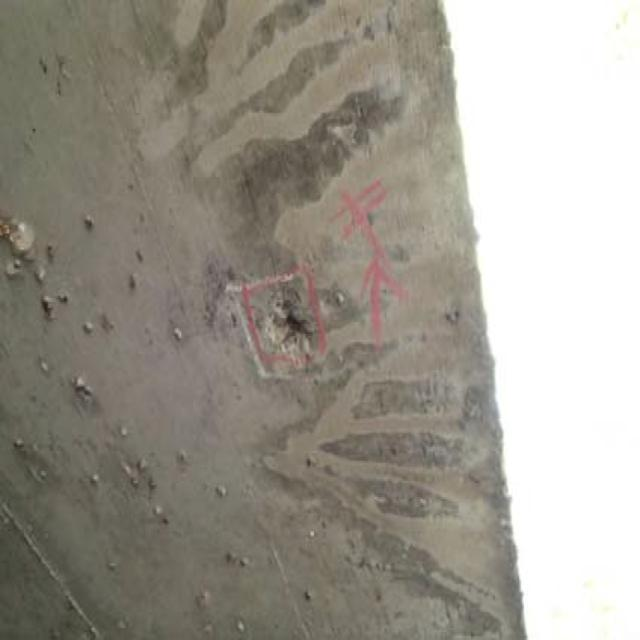spalling: (241, 227, 340, 387)
